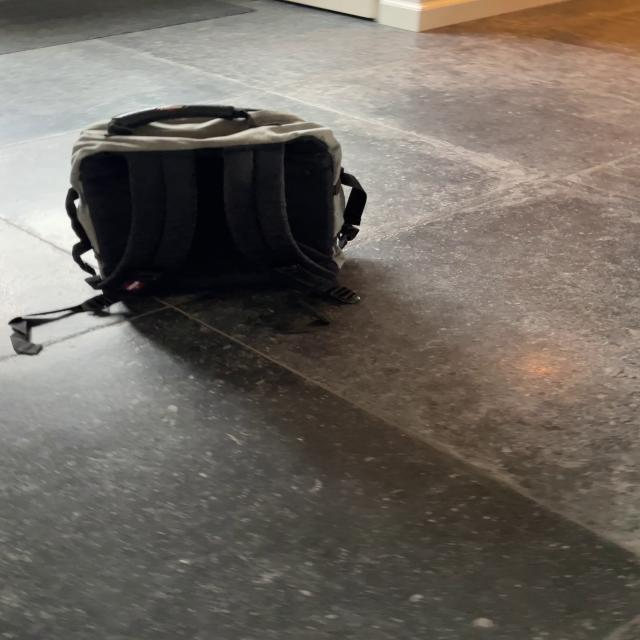backpack: (54, 96, 376, 331)
